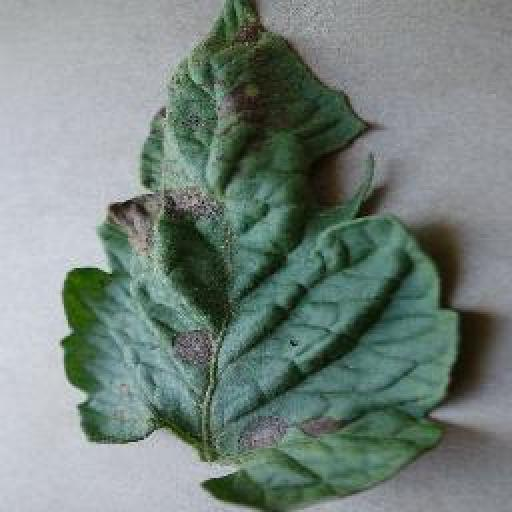Early Blight: (62, 2, 466, 512)
